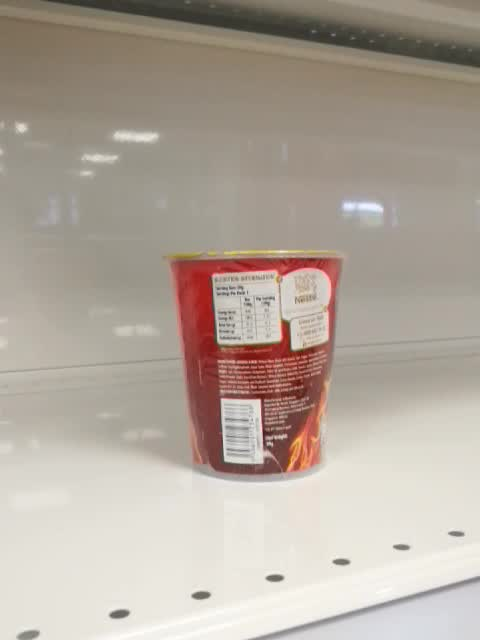maggi: (163, 248, 348, 482)
